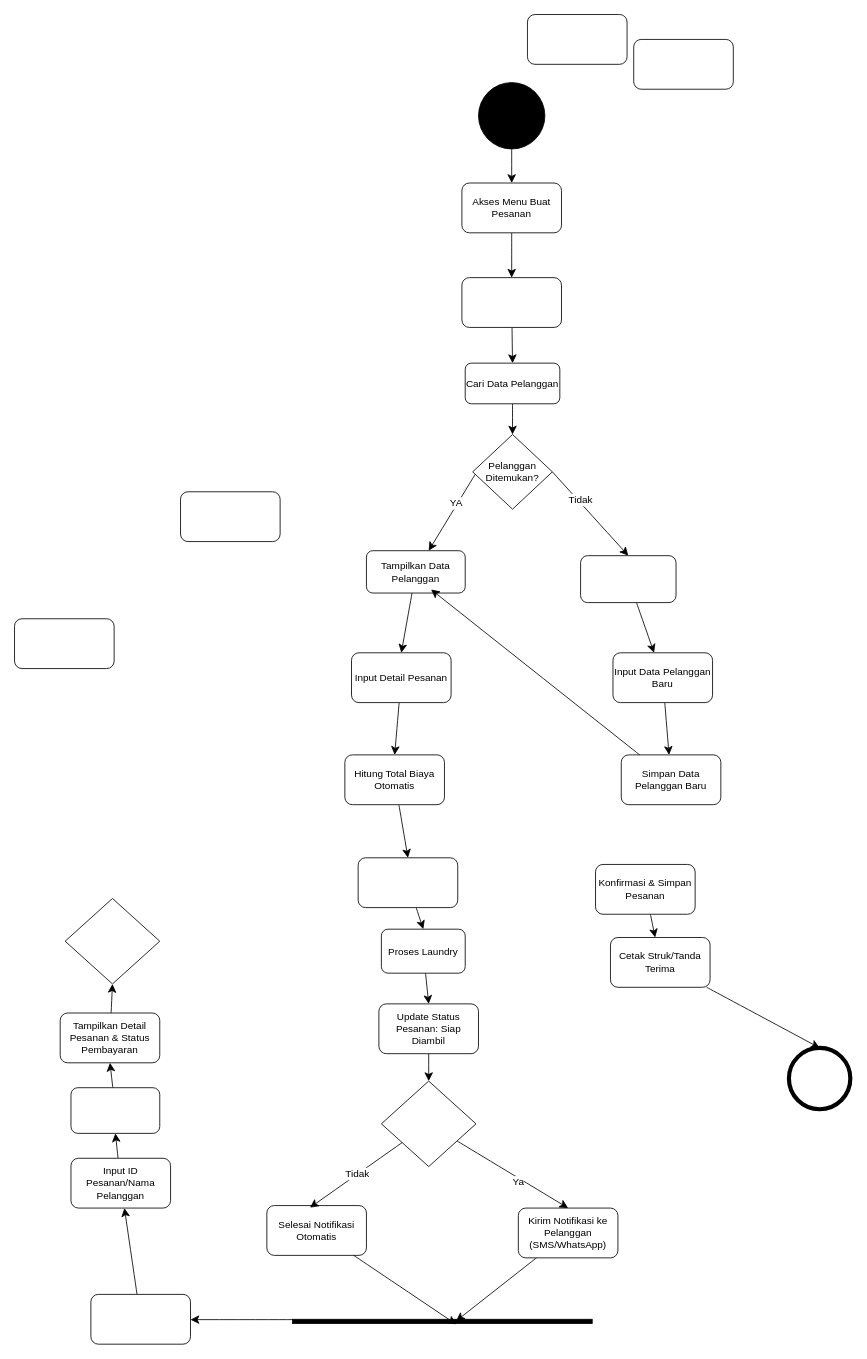
This 867x1359 diagram has some shape labels left out. Each missing label, with the centre of its shape:
Cari Pesanan: point (115, 1110)
End: point (819, 1078)
Input Nama/No. Telepon Pelanggan: point (511, 302)
Notifikasi Otomatis Aktif?: point (428, 1123)
Pelanggan Datang Mengambil Laundry: point (140, 1319)
Status Pembayaran lunas: point (112, 941)
Tampilkan Form Registrasi Pelanggan Baru: point (628, 579)
Update Status Pesanan: Sedang Diproses: point (407, 882)
